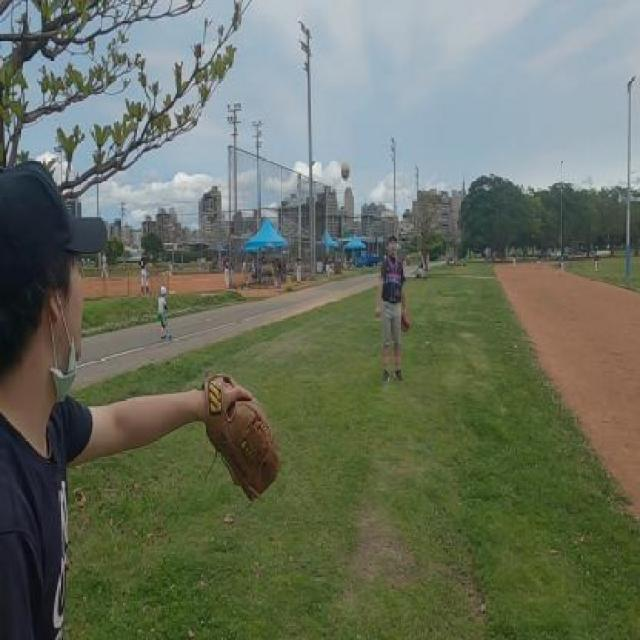baseball: (341, 162, 350, 180)
